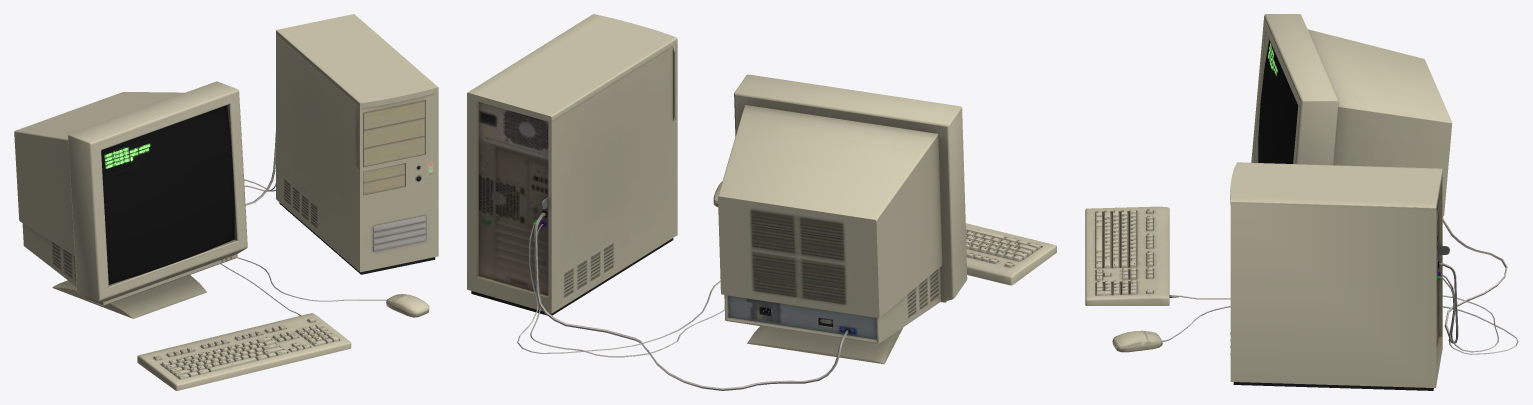
File: balik.glb
3 views of the same model, side by side, from view 1: azimuth 30°, elevation 25°; view 2: azimuth 150°, elevation 25°; view 3: azimuth 270°, elevation 25° (orthographic). The views are drawn at different scales.
Parts seen in each view (by area): view 1: monitor, kasa, klavye, kablo, mouse; view 2: monitor, kasa, klavye, kablo; view 3: kasa, monitor, klavye, kablo, mouse.
Part boxes in pixels (x1=…): monitor: x1=14, y1=81, x2=247, y2=318; kasa: x1=276, y1=14, x2=438, y2=274; klavye: x1=137, y1=313, x2=351, y2=390; kablo: x1=220, y1=132, x2=386, y2=315; mouse: x1=386, y1=294, x2=429, y2=317; monitor: x1=718, y1=74, x2=967, y2=364; kasa: x1=467, y1=14, x2=677, y2=315; klavye: x1=965, y1=223, x2=1056, y2=285; kablo: x1=517, y1=204, x2=849, y2=390; kasa: x1=1230, y1=162, x2=1449, y2=390; monitor: x1=1251, y1=14, x2=1452, y2=216; klavye: x1=1085, y1=206, x2=1169, y2=305; kablo: x1=1162, y1=217, x2=1518, y2=354; mouse: x1=1112, y1=330, x2=1162, y2=352.
Size of the model in its own units: 96.81 by 49.45 by 97.24.
Materials: 1 (1 with a texture image).
